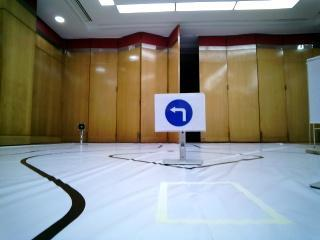left: (156, 95, 202, 129)
